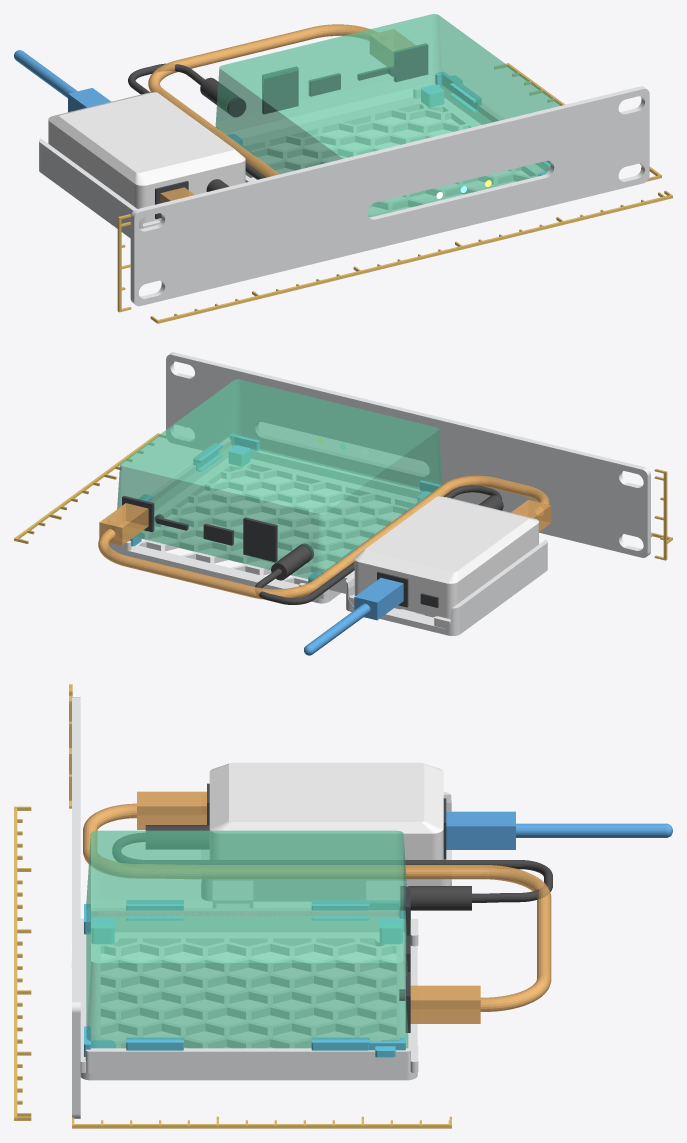
Rendered from home-assistant-green-rack-balanced-no_shutter.glb.
3 renders of one model, top to bottom at view 1: azimuth 30°, elevation 25°; view 2: azimuth 150°, elevation 25°; view 3: azimuth 270°, elevation 25°, orthographic. The views are drawn at different scales.
Parts seen in each view (by area): view 1: White rack mount, Home Assistant Green, TP-Link TL-PD30G-M2, Green tray — standard, Ethernet cable — bend-radius warning, 10 mm dimension rulers, Home Assistant Green connector faces, TP-Link cradle side walls, DC cable, Incoming PoE cable, Green retention — segmented rails + rear latch, Home Assistant logo (+2 smaller); view 2: Home Assistant Green, White rack mount, Green tray — standard, TP-Link TL-PD30G-M2, Ethernet cable — bend-radius warning, Home Assistant Green connector faces, TP-Link cradle side walls, DC cable, Incoming PoE cable, Green retention — segmented rails + rear latch, 10 mm dimension rulers, TP-Link cradle floor (+1 smaller); view 3: Home Assistant Green, Green tray — standard, TP-Link TL-PD30G-M2, Ethernet cable — bend-radius warning, DC cable, Green retention — segmented rails + rear latch, White rack mount, Incoming PoE cable, 10 mm dimension rulers, TP-Link cradle side walls, Home Assistant Green connector faces, TP-Link cradle floor.
Part boxes in pixels (bbox=[...]): White rack mount: bbox=[130, 86, 649, 306]; Home Assistant Green: bbox=[215, 14, 560, 217]; TP-Link TL-PD30G-M2: bbox=[48, 92, 245, 223]; Green tray — standard: bbox=[226, 83, 549, 216]; Ethernet cable — bend-radius warning: bbox=[148, 24, 415, 203]; 10 mm dimension rulers: bbox=[117, 63, 672, 323]; Home Assistant Green connector faces: bbox=[227, 43, 428, 117]; TP-Link cradle side walls: bbox=[39, 138, 253, 231]; DC cable: bbox=[128, 63, 266, 191]; Incoming PoE cable: bbox=[14, 50, 110, 112]; Green retention — segmented rails + rear latch: bbox=[216, 72, 550, 175]; Home Assistant logo: bbox=[241, 206, 282, 255]; Home Assistant Green: bbox=[117, 379, 442, 580]; White rack mount: bbox=[166, 352, 650, 593]; Green tray — standard: bbox=[109, 437, 422, 603]; TP-Link TL-PD30G-M2: bbox=[354, 496, 538, 619]; Ethernet cable — bend-radius warning: bbox=[98, 475, 551, 599]; Home Assistant Green connector faces: bbox=[122, 496, 313, 562]; TP-Link cradle side walls: bbox=[346, 539, 547, 630]; DC cable: bbox=[255, 485, 503, 604]; Incoming PoE cable: bbox=[304, 578, 403, 655]; Green retention — segmented rails + rear latch: bbox=[129, 434, 440, 582]; 10 mm dimension rulers: bbox=[14, 427, 672, 560]; TP-Link cradle floor: bbox=[346, 564, 547, 635]; Home Assistant Green: bbox=[86, 830, 408, 1048]; Green tray — standard: bbox=[80, 908, 418, 1080]; TP-Link TL-PD30G-M2: bbox=[209, 762, 443, 859]; Ethernet cable — bend-radius warning: bbox=[83, 791, 551, 1023]; DC cable: bbox=[112, 825, 552, 910]; Green retention — segmented rails + rear latch: bbox=[84, 900, 405, 1057]; White rack mount: bbox=[72, 697, 406, 1118]; Incoming PoE cable: bbox=[446, 811, 672, 849]; 10 mm dimension rulers: bbox=[14, 684, 451, 1128]; TP-Link cradle side walls: bbox=[201, 792, 451, 893]; Home Assistant Green connector faces: bbox=[399, 886, 410, 1032]; TP-Link cradle floor: bbox=[201, 850, 451, 901].
Size of what is drawn, in the model's own units: 268 by 44.45 by 227.
